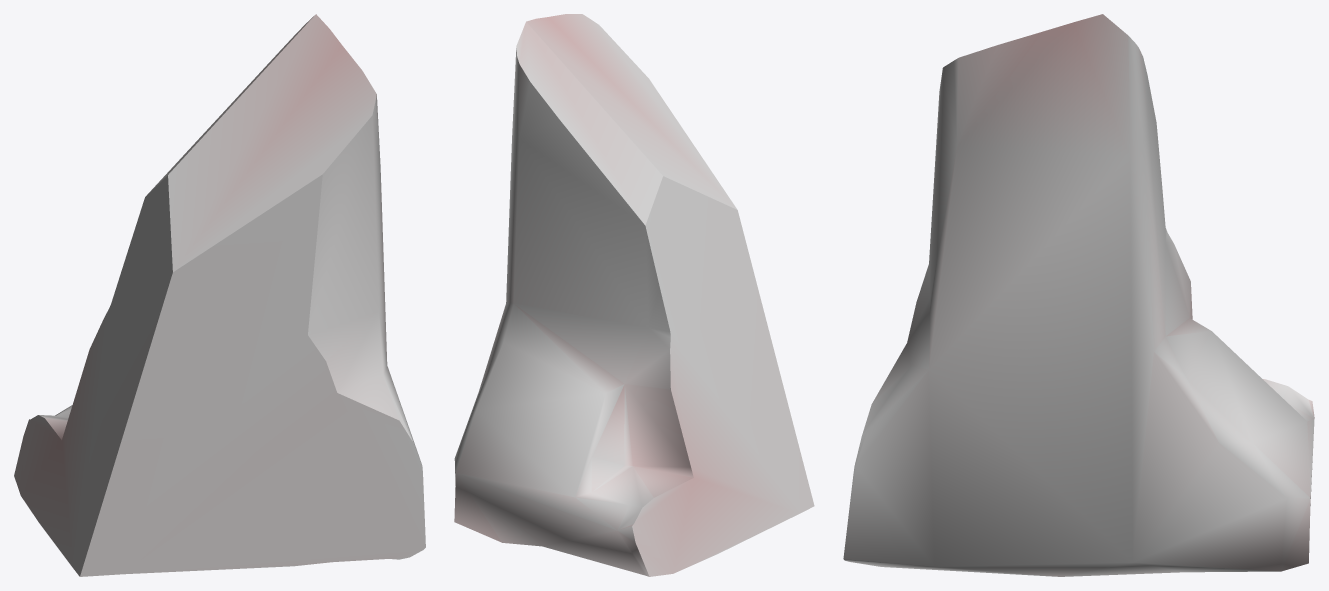
Rendered from Barrier_12.fbx.
3 renders of one model, left to right at view 1: azimuth 30°, elevation 25°; view 2: azimuth 150°, elevation 25°; view 3: azimuth 270°, elevation 25°, orthographic. The views are drawn at different scales.
Parts seen in each view (by area): view 1: Barrier_12; view 2: Barrier_12; view 3: Barrier_12.
Part boxes in pixels (x1,y1,x2,y2): Barrier_12: (14,14,425,576); Barrier_12: (454,14,814,576); Barrier_12: (843,14,1314,576).
Bounding box in the file's own units: 0.3413 × 0.568 × 0.4225.
